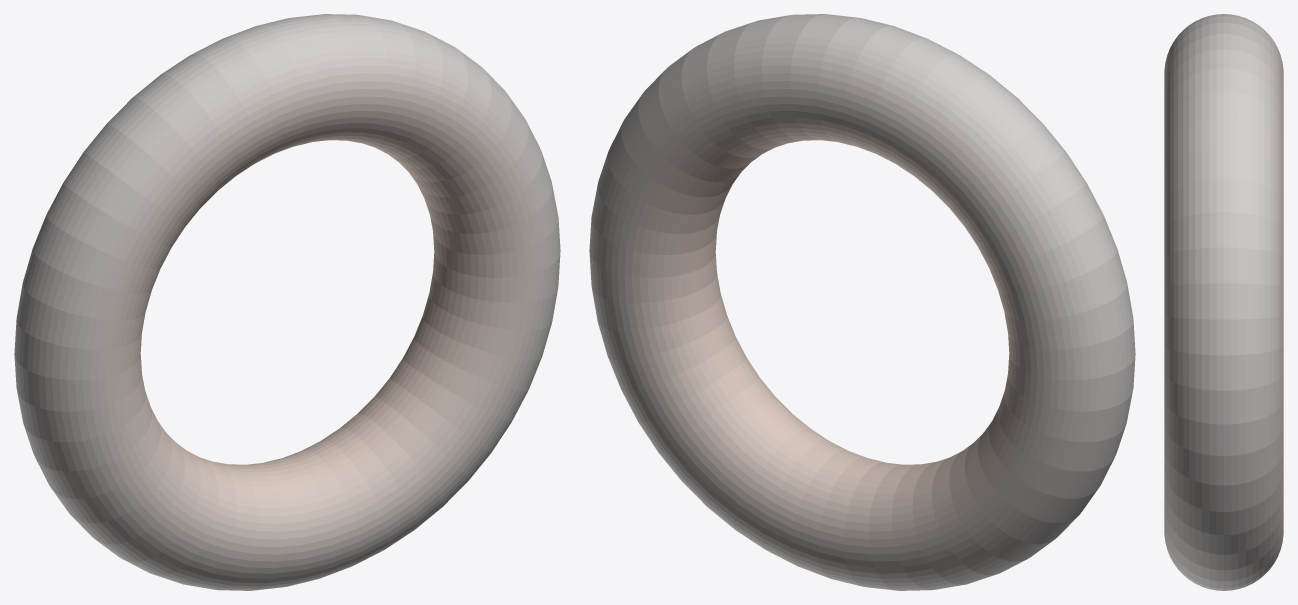
3 renders of one model, left to right at view 1: azimuth 30°, elevation 25°; view 2: azimuth 150°, elevation 25°; view 3: azimuth 270°, elevation 25°, orthographic. The views are drawn at different scales.
Parts seen in each view (by area): view 1: world; view 2: world; view 3: world.
Boxes of the visible parts, left/top/right/bottom form: world: left=14, top=14, right=560, bottom=590; world: left=589, top=14, right=1135, bottom=590; world: left=1164, top=14, right=1283, bottom=590.
Bounding box in the file's own units: 27.73 × 27.68 × 5.72.
